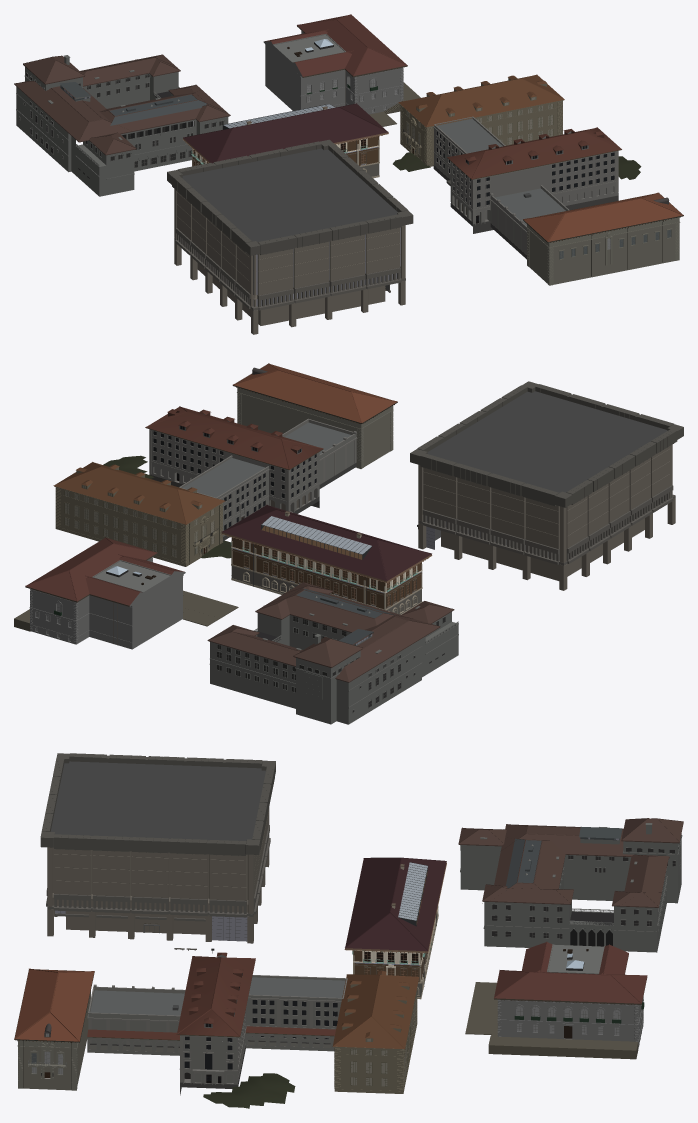
3 views of the same model, one above another, from view 1: azimuth 30°, elevation 25°; view 2: azimuth 150°, elevation 25°; view 3: azimuth 270°, elevation 25° (orthographic). The views are drawn at different scales.
Visible parts, largest first — view 1: opaque, glass; view 2: opaque, glass; view 3: opaque, glass.
Boxes of the visible parts, <box> form: opaque: <box>14,14,683,334</box>; glass: <box>19,39,614,306</box>; opaque: <box>14,363,683,724</box>; glass: <box>35,426,548,712</box>; opaque: <box>14,753,683,1108</box>; glass: <box>32,837,678,1086</box>.
Bounding box in the file's own units: 175 × 36.27 × 195.
Materials: 2 (2 with a texture image).
